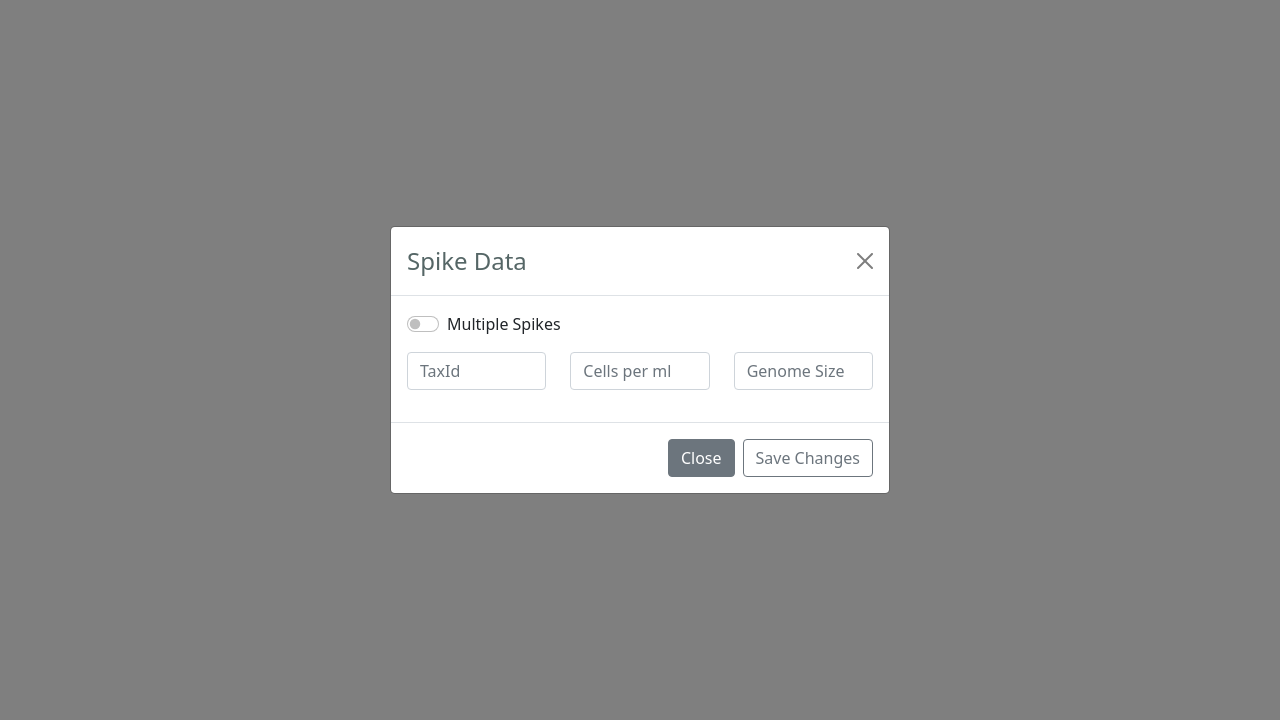
Modal › should display validation warnings input data missing
Click the button "Save Changes": point(808, 458) [742,439,873,477]
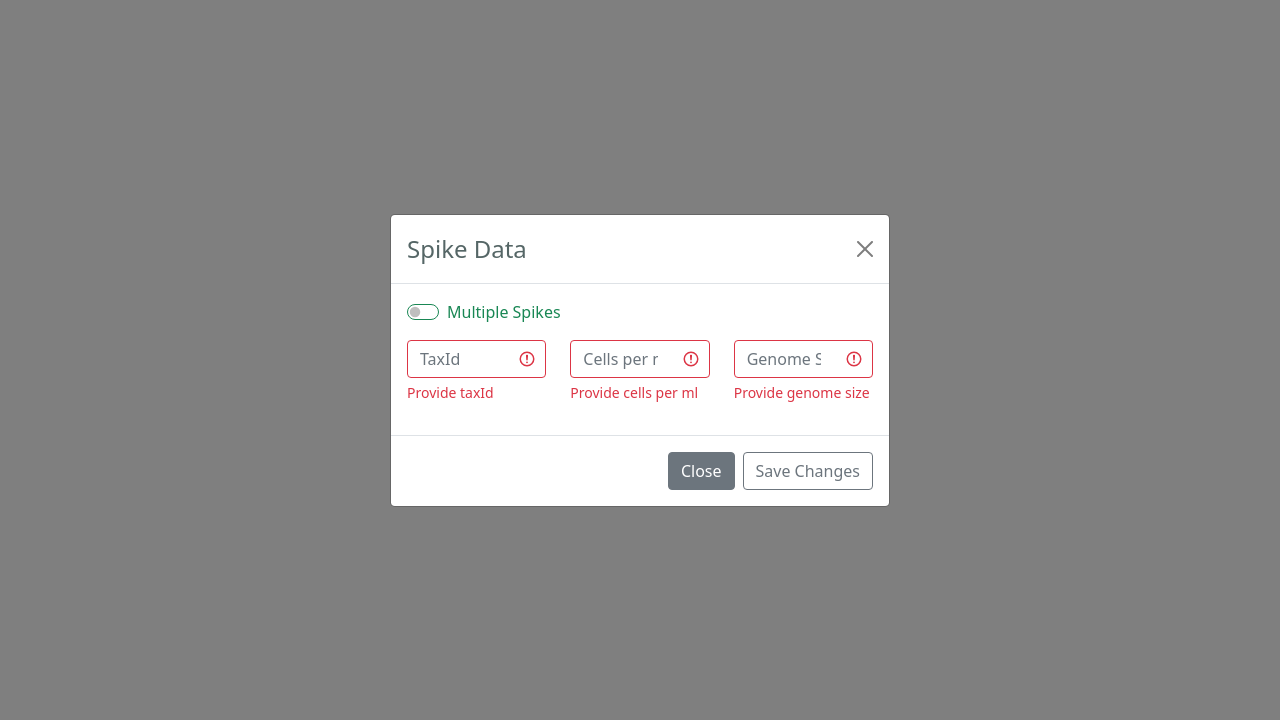
Check: the text "Provide taxId" is shown, box [407,382,494,402]
